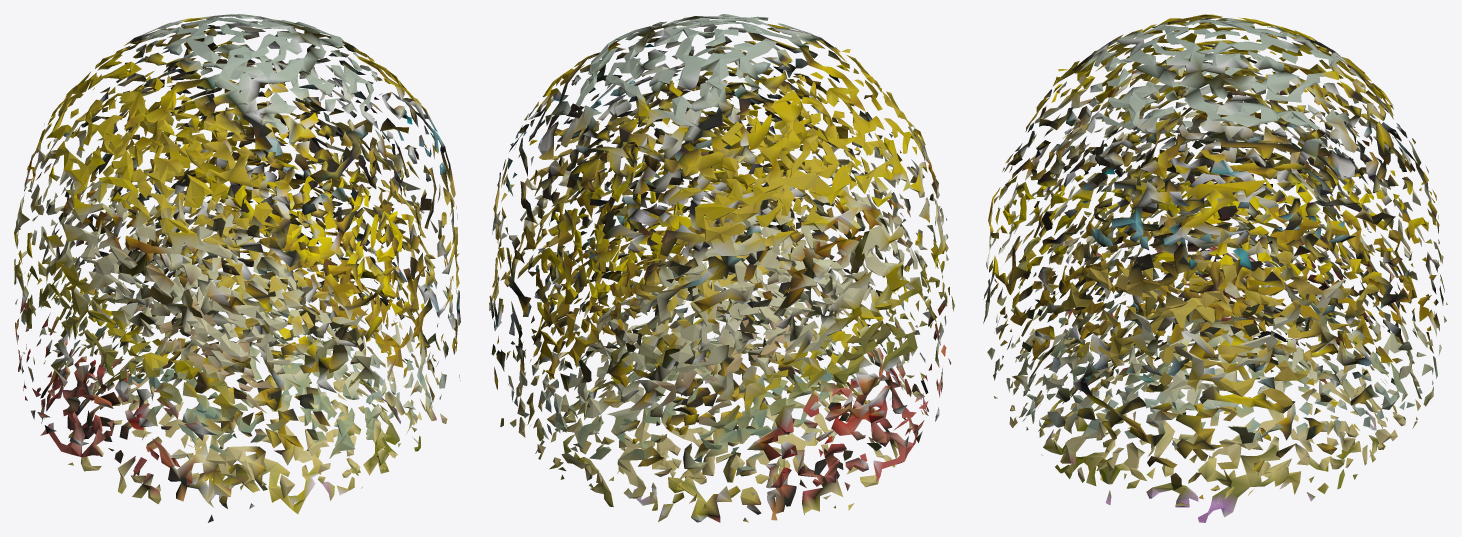
File: wraith.glb
The picture shows the model from 3 angles, left to right: view 1: azimuth 30°, elevation 25°; view 2: azimuth 150°, elevation 25°; view 3: azimuth 270°, elevation 25°; orthographic projection. The views are drawn at different scales.
Parts seen in each view (by area): view 1: world; view 2: world; view 3: world.
Boxes of the visible parts, bbox=[...] form: world: bbox=[14, 14, 460, 522]; world: bbox=[489, 14, 954, 522]; world: bbox=[983, 14, 1447, 522].
Size of the model in its own units: 1.02 by 1 by 1.02.
